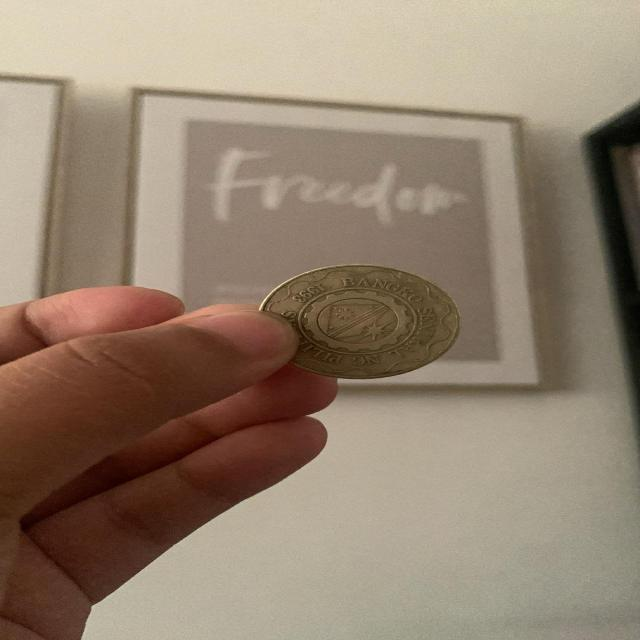5 peso-old: (261, 258, 476, 384)
